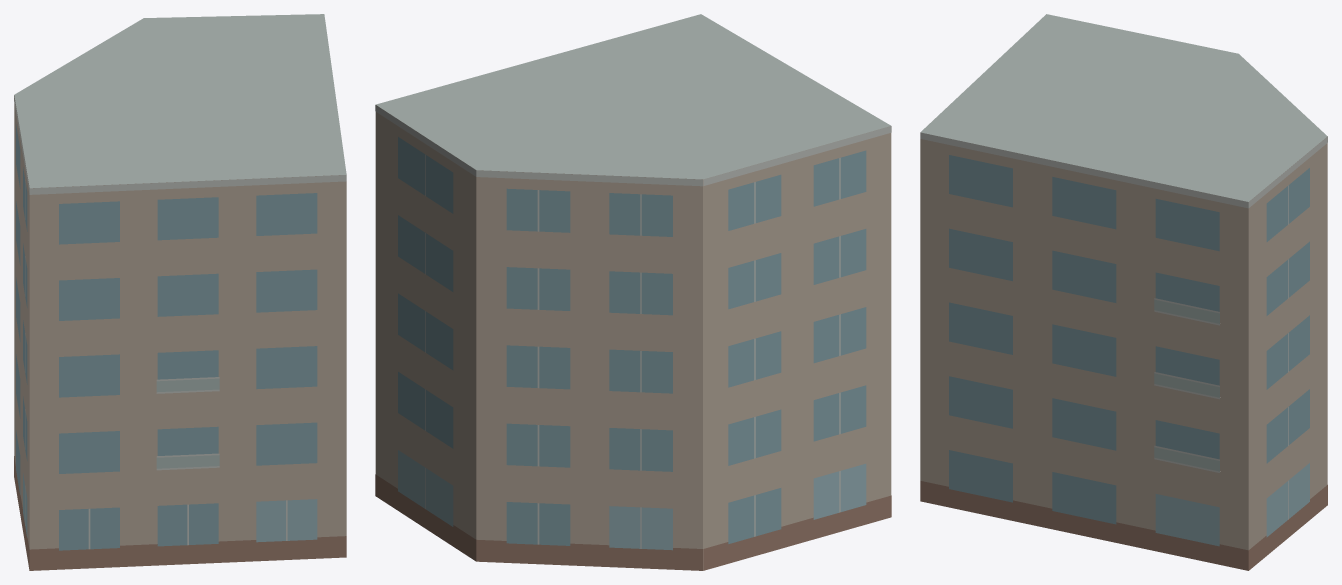
The model's file is survey-upis-32560342.glb.
3 renders of one model, left to right at view 1: azimuth 30°, elevation 25°; view 2: azimuth 150°, elevation 25°; view 3: azimuth 270°, elevation 25°, orthographic. The views are drawn at different scales.
Visible parts, largest first — view 1: survey-upis-32560342.tmp; view 2: survey-upis-32560342.tmp; view 3: survey-upis-32560342.tmp.
Part boxes in pixels (x1,y1,x2,y2): survey-upis-32560342.tmp: (14,14,346,570); survey-upis-32560342.tmp: (375,14,891,570); survey-upis-32560342.tmp: (920,14,1327,570).
Size of the model in its own units: 15.29 by 13.98 by 14.
